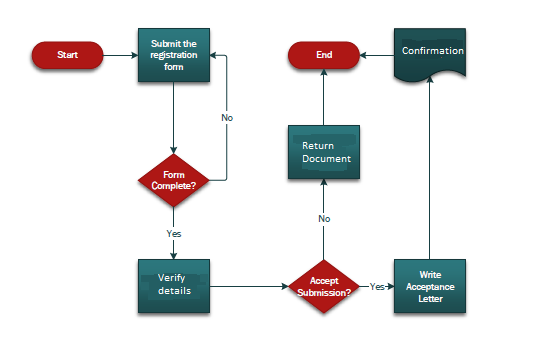arrow: (206, 50, 230, 183), (424, 75, 435, 260), (319, 177, 328, 263), (208, 281, 290, 290), (169, 78, 178, 156), (318, 68, 330, 126), (170, 204, 178, 260), (101, 50, 140, 60), (357, 50, 395, 59), (358, 282, 394, 291)
decision: (286, 258, 361, 314), (137, 152, 210, 208)
process: (135, 257, 212, 317), (286, 123, 362, 182), (392, 258, 469, 316), (391, 26, 468, 84), (136, 27, 212, 84)
terminator: (29, 40, 105, 72), (286, 40, 362, 71)
text: (404, 270, 456, 305), (149, 38, 199, 72), (296, 276, 352, 299), (301, 140, 352, 164), (151, 171, 197, 191), (155, 272, 193, 296), (400, 45, 465, 56), (56, 50, 78, 60), (165, 227, 182, 238), (315, 50, 333, 59), (219, 112, 234, 122), (368, 282, 384, 291), (317, 214, 331, 223)
